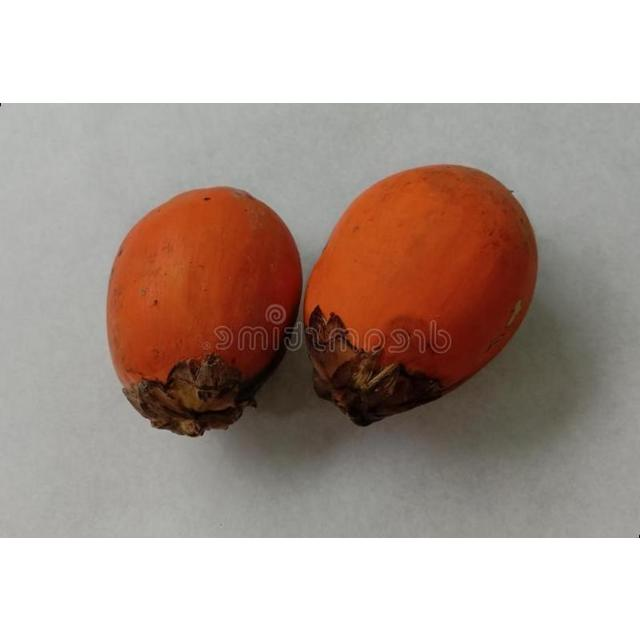good: (302, 164, 540, 427), (106, 186, 305, 438)
